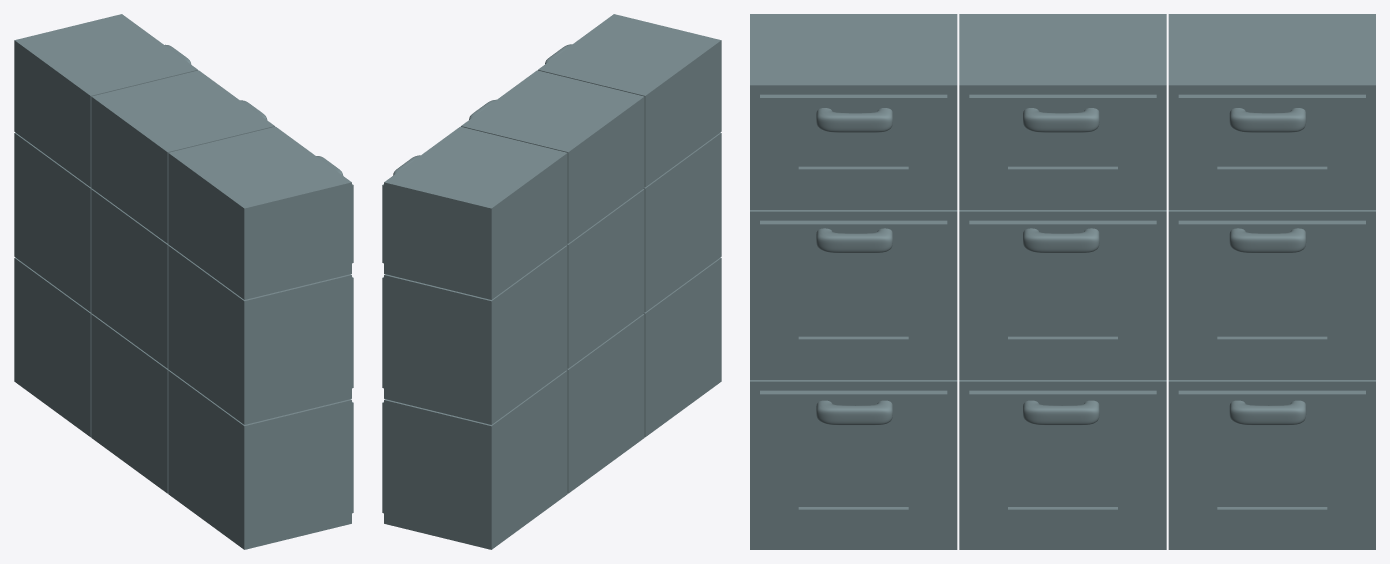
Rendered from lockers.fbx.
3 renders of one model, left to right at view 1: azimuth 30°, elevation 25°; view 2: azimuth 150°, elevation 25°; view 3: azimuth 270°, elevation 25°, orthographic. The views are drawn at different scales.
Parts seen in each view (by area): view 1: Cube.048; view 2: Cube.048; view 3: Cube.048.
Boxes of the visible parts, bbox=[...] form: Cube.048: bbox=[14, 14, 353, 549]; Cube.048: bbox=[382, 14, 721, 549]; Cube.048: bbox=[750, 14, 1375, 549].
Size of the model in its own units: 95.84 by 246 by 300.
